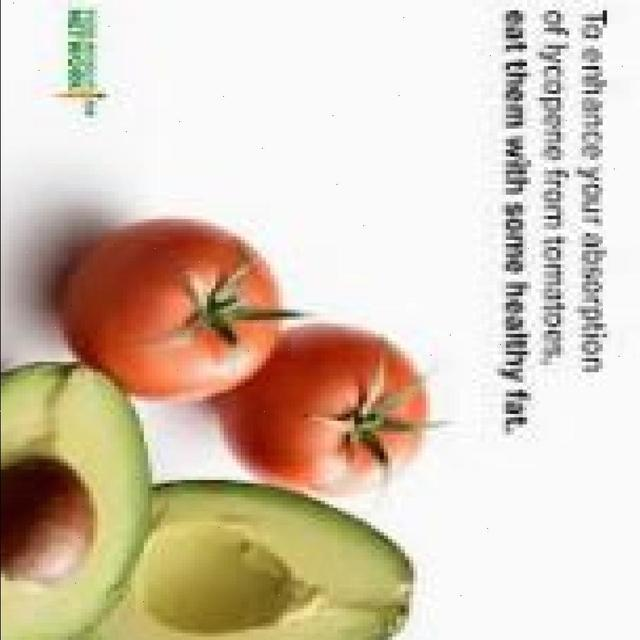Healthy Fruit: (126, 108, 221, 272)
